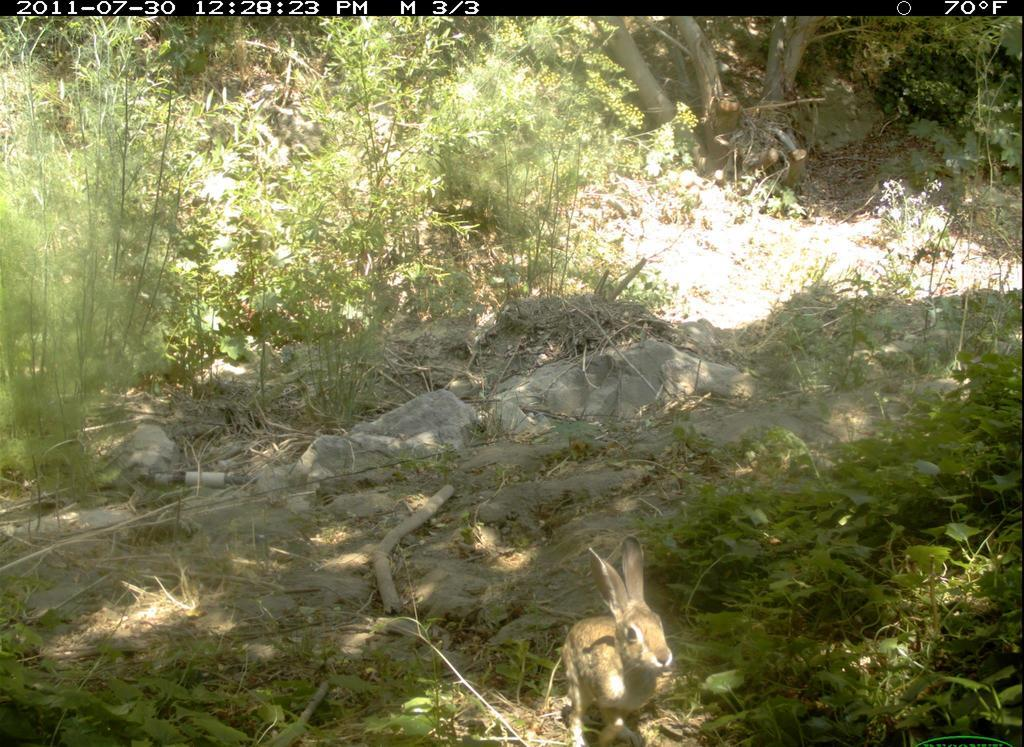rabbit: (556, 532, 679, 742)
